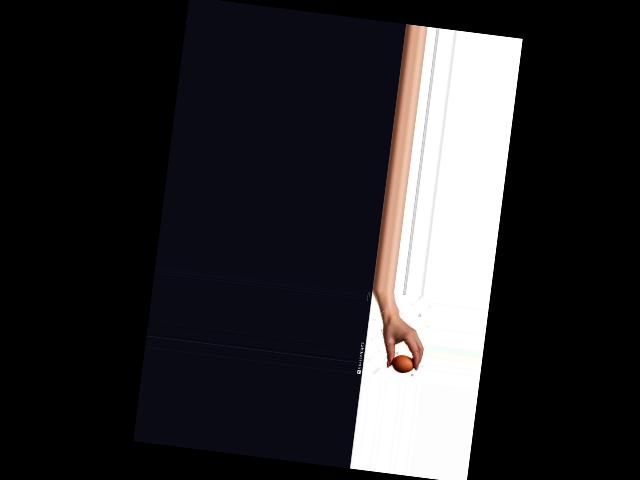egg: (391, 353, 414, 373)
